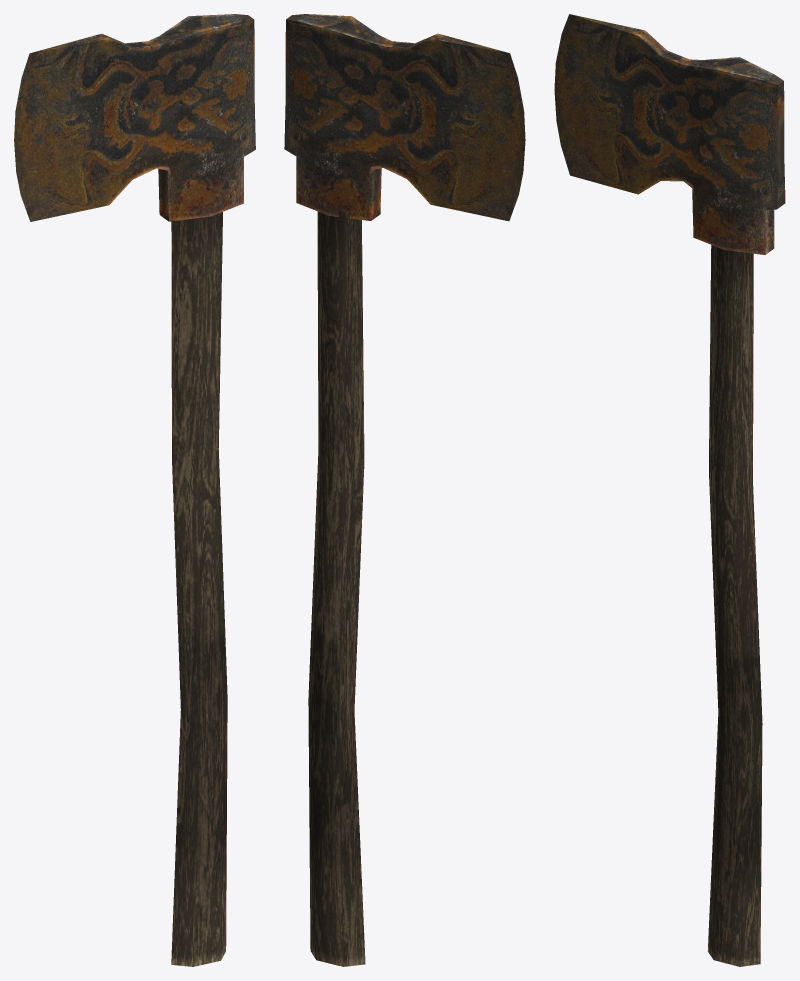
File: axe2_LOD0.FBX
3 renders of one model, left to right at view 1: azimuth 30°, elevation 25°; view 2: azimuth 150°, elevation 25°; view 3: azimuth 330°, elevation 25°, orthographic. The views are drawn at different scales.
Visible parts, largest first — view 1: axe2_LOD0; view 2: axe2_LOD0; view 3: axe2_LOD0.
Boxes of the visible parts, x1,y1,x2,y2 form: axe2_LOD0: (14, 14, 255, 966); axe2_LOD0: (284, 14, 525, 966); axe2_LOD0: (554, 14, 785, 966).
Size of the model in its own units: 30.9 by 118 by 4.43.
